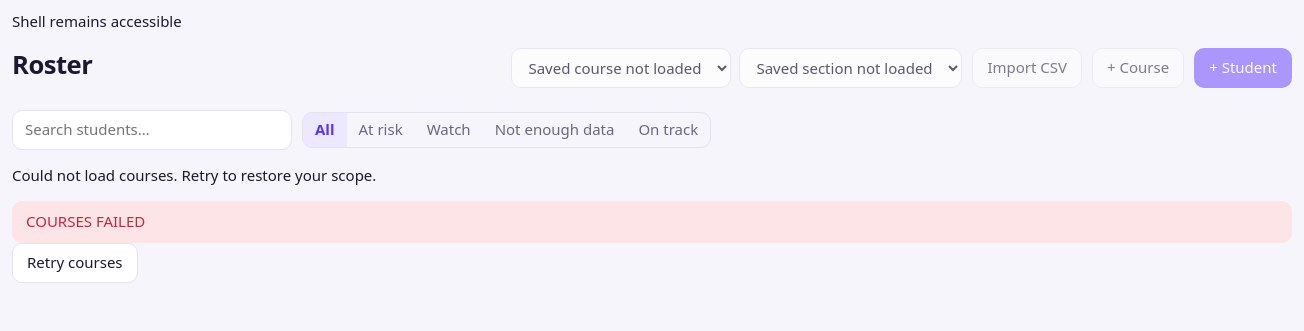
Test: saved scope hydration › metadata error retains saved selection and retry resolves it without broader rows
Expected: the text "COURSES FAILED" is shown, left=26, top=211, right=145, bottom=233
Click the button "Retry courses" at {"x": 75, "y": 263}, box left=12, top=243, right=138, bottom=283
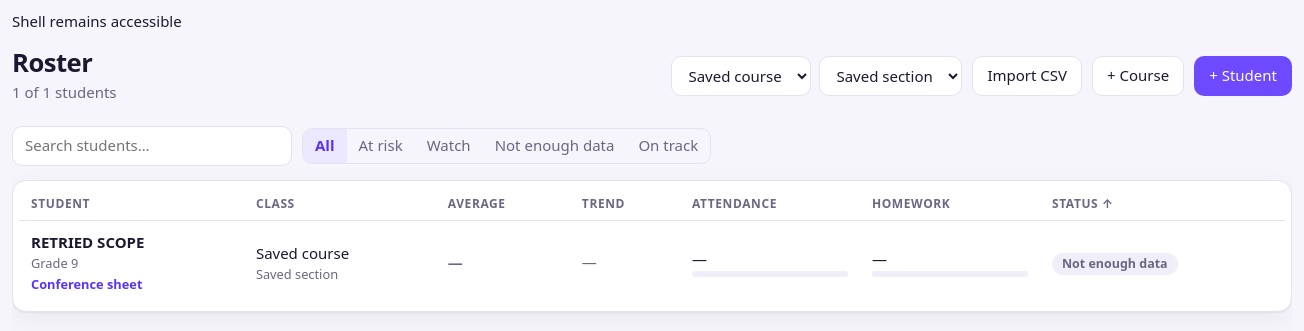
Now the link "RETRIED SCOPE" is shown, box left=31, top=232, right=144, bottom=252
